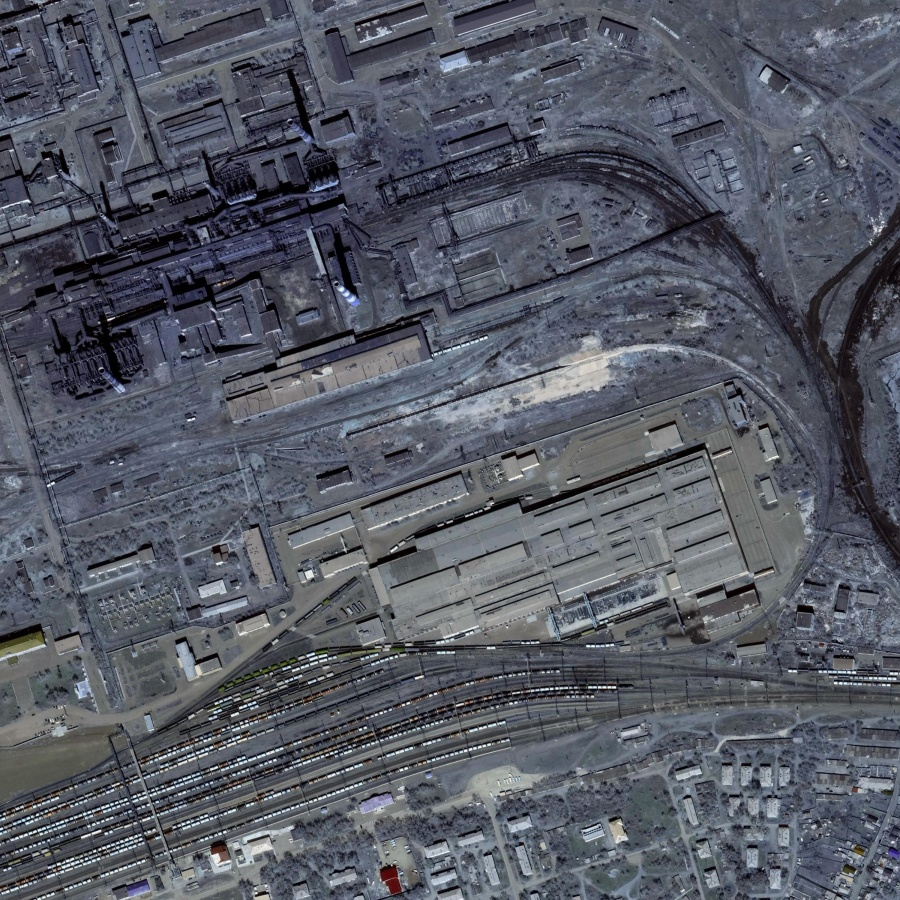PowerPlant: (28, 106, 380, 400)
